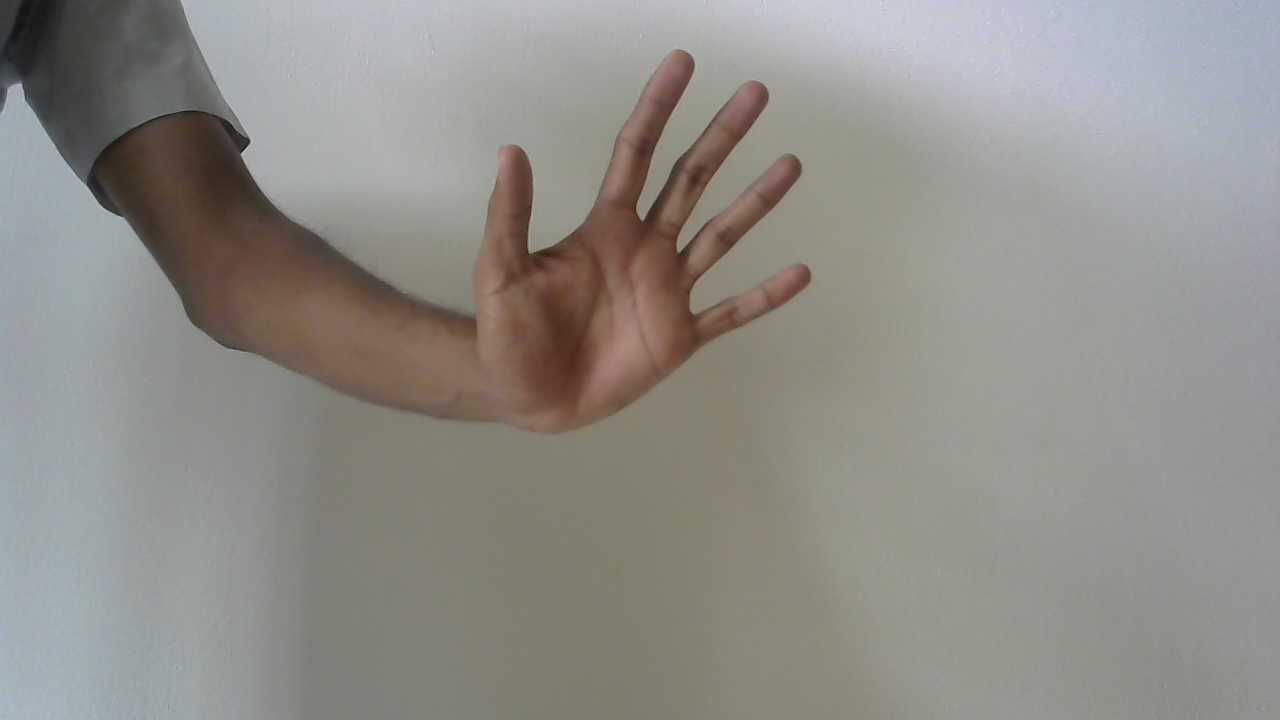hello: (465, 44, 822, 443)
